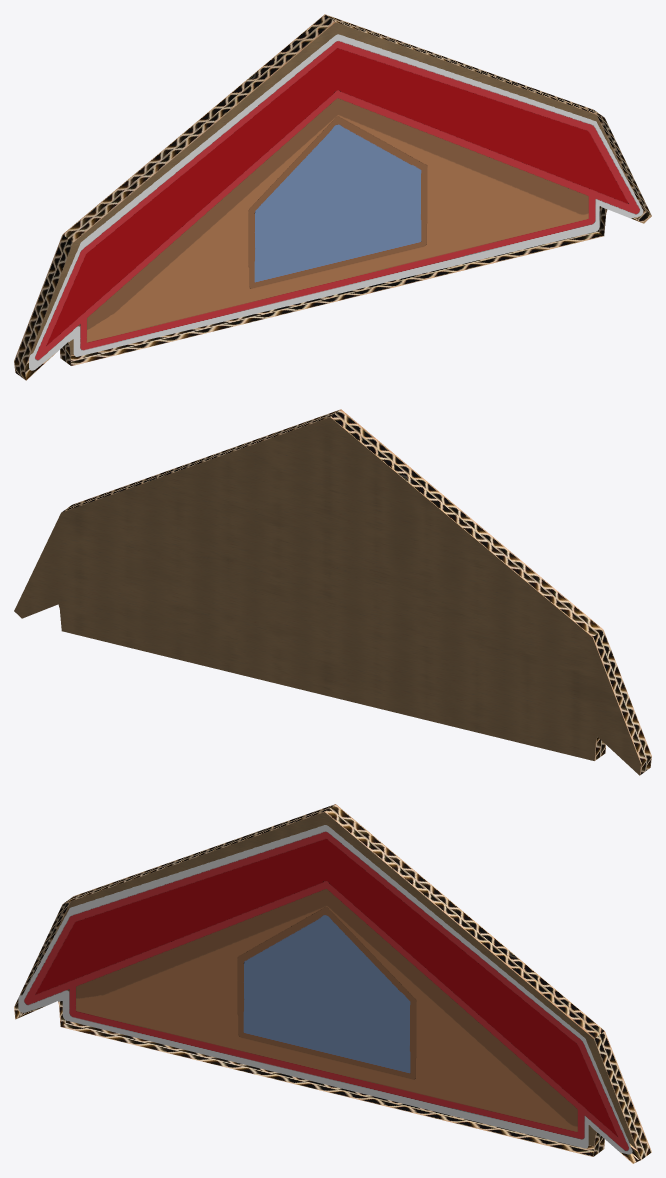
The model's file is House_Roof03.fbx.
3 views of the same model, one above another, from view 1: azimuth 30°, elevation 25°; view 2: azimuth 150°, elevation 25°; view 3: azimuth 330°, elevation 25° (orthographic).
Visible parts, largest first — view 1: Line008; view 2: Line008; view 3: Line008.
Part boxes in pixels (x1=…): Line008: x1=14, y1=14, x2=651, y2=380; Line008: x1=14, y1=409, x2=651, y2=775; Line008: x1=14, y1=804, x2=651, y2=1163.
Size of the model in its own units: 34.29 by 14.79 by 1.04.
Materials: 3 (3 with a texture image).
